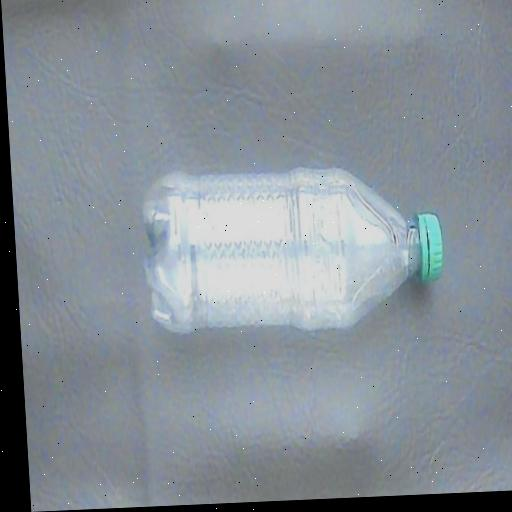ba: (95, 156, 473, 359)
